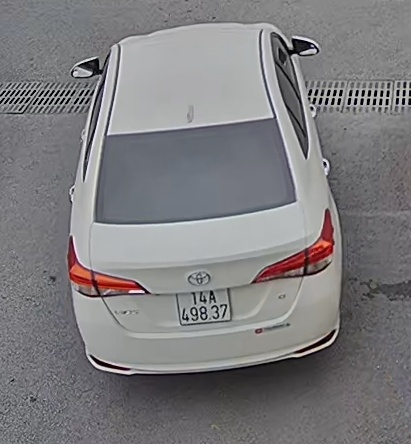vehicle plate: (175, 287, 237, 323)
